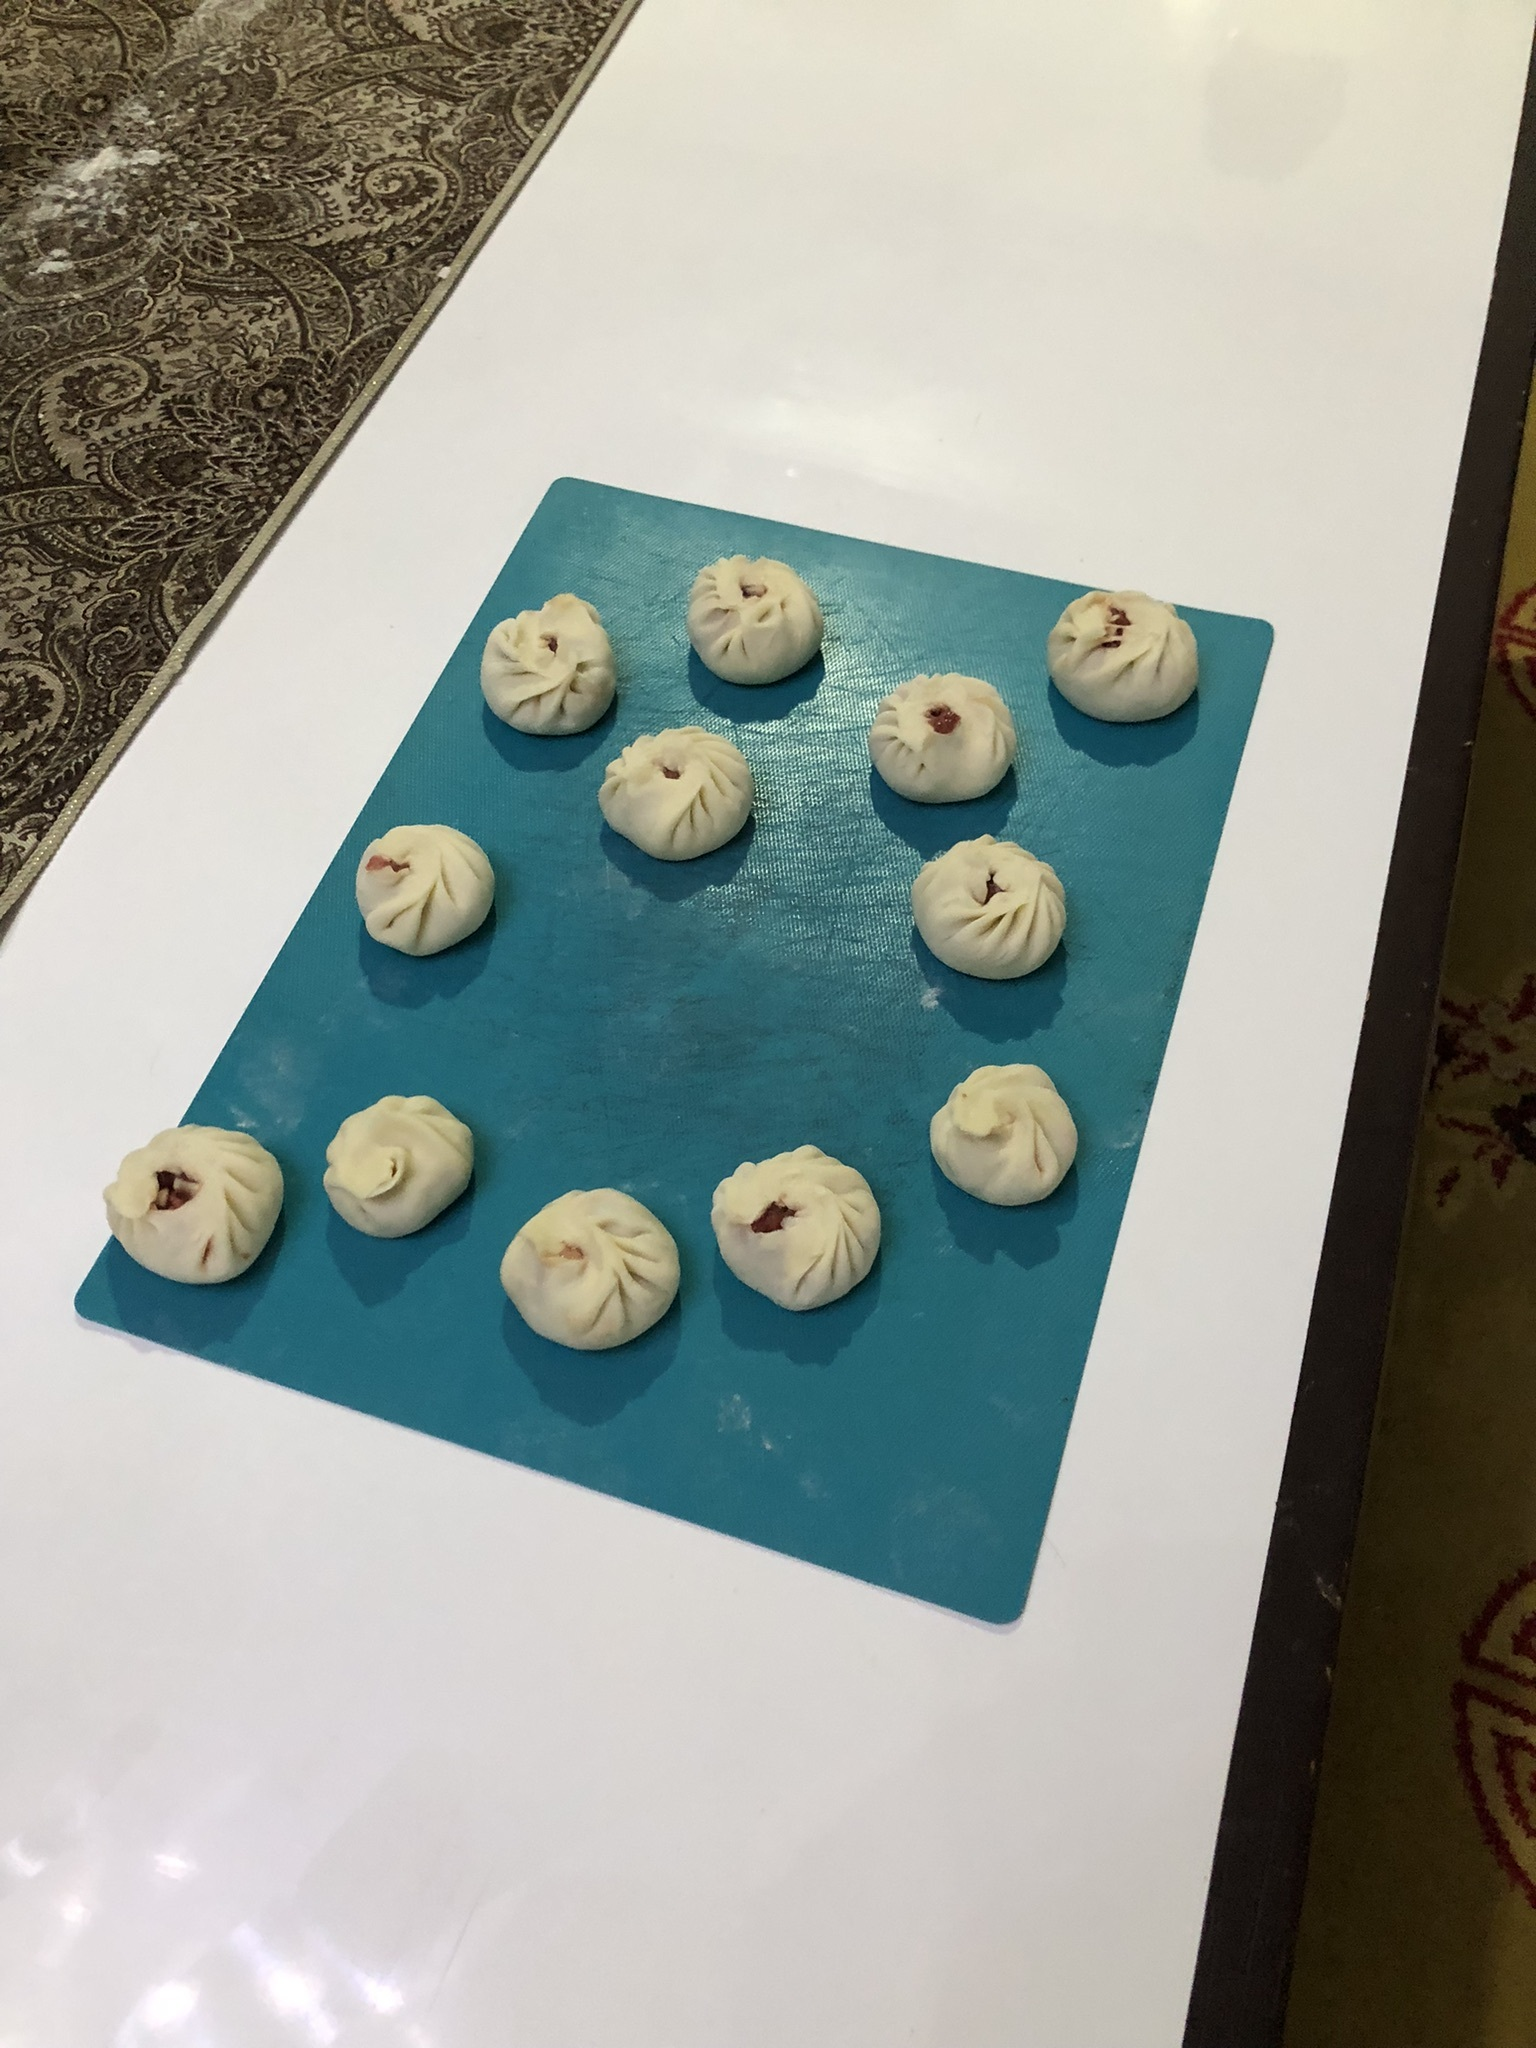buuz: (494, 1182, 684, 1355), (707, 1138, 887, 1317), (98, 1121, 289, 1288), (904, 830, 1073, 987), (319, 1090, 481, 1245), (592, 722, 760, 869), (925, 1058, 1083, 1213), (1046, 587, 1208, 734), (863, 669, 1023, 811), (474, 590, 623, 739), (352, 818, 502, 963), (682, 552, 828, 692)
